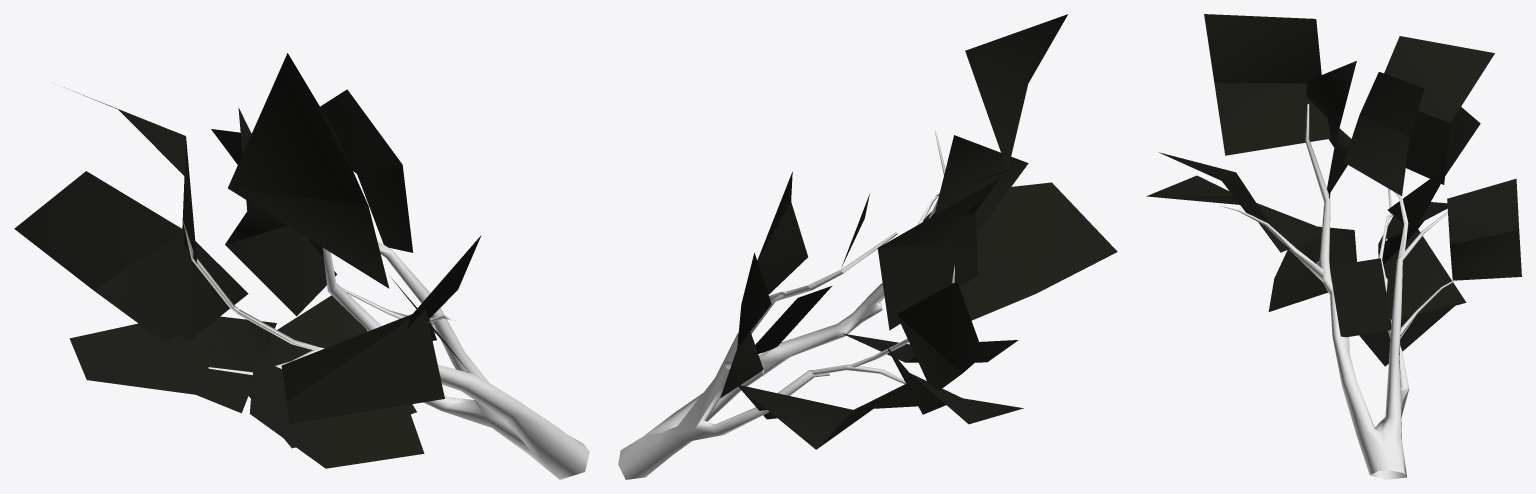
The model's file is sourcetree.fbx.
3 views of the same model, side by side, from view 1: azimuth 30°, elevation 25°; view 2: azimuth 150°, elevation 25°; view 3: azimuth 270°, elevation 25° (orthographic). The views are drawn at different scales.
Parts seen in each view (by area): view 1: prop_static_22626; view 2: prop_static_22626; view 3: prop_static_22626.
Part boxes in pixels (<box>): prop_static_22626: <box>14,53,589,479</box>; prop_static_22626: <box>618,14,1117,479</box>; prop_static_22626: <box>1146,14,1521,479</box>.
Size of the model in its own units: 202 by 211 by 201.
Materials: 2 (1 with a texture image).
